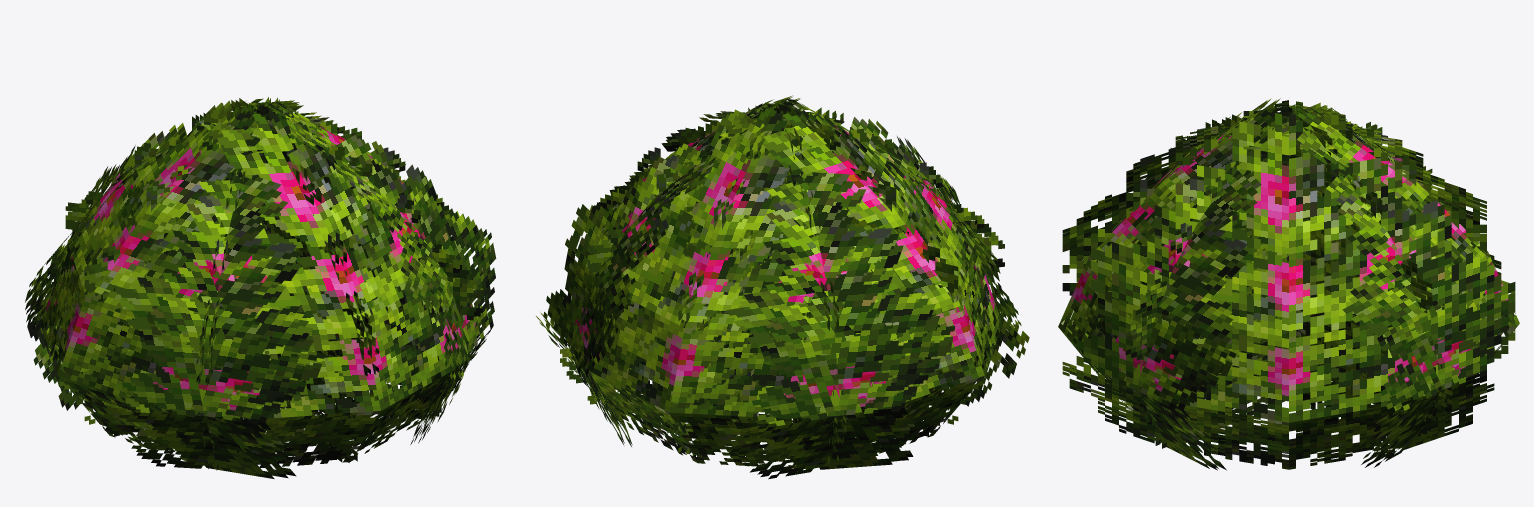
File: bush02_spring4.glb
The picture shows the model from 3 angles, left to right: view 1: azimuth 30°, elevation 25°; view 2: azimuth 150°, elevation 25°; view 3: azimuth 270°, elevation 25°; orthographic projection.
Visible parts, largest first — view 1: bush02; view 2: bush02; view 3: bush02.
Boxes of the visible parts, bbox=[...] form: bush02: bbox=[25, 97, 496, 479]; bush02: bbox=[536, 95, 1029, 479]; bush02: bbox=[1058, 98, 1519, 470].
Size of the model in its own units: 1.53 by 1.05 by 1.53.
1 material, 1 textured.
